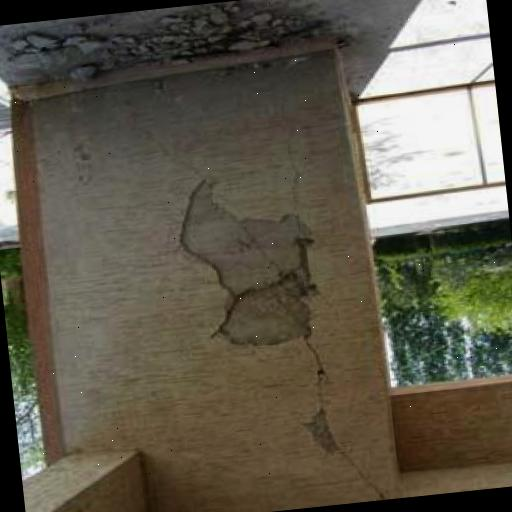spalling: (180, 184, 316, 345)
